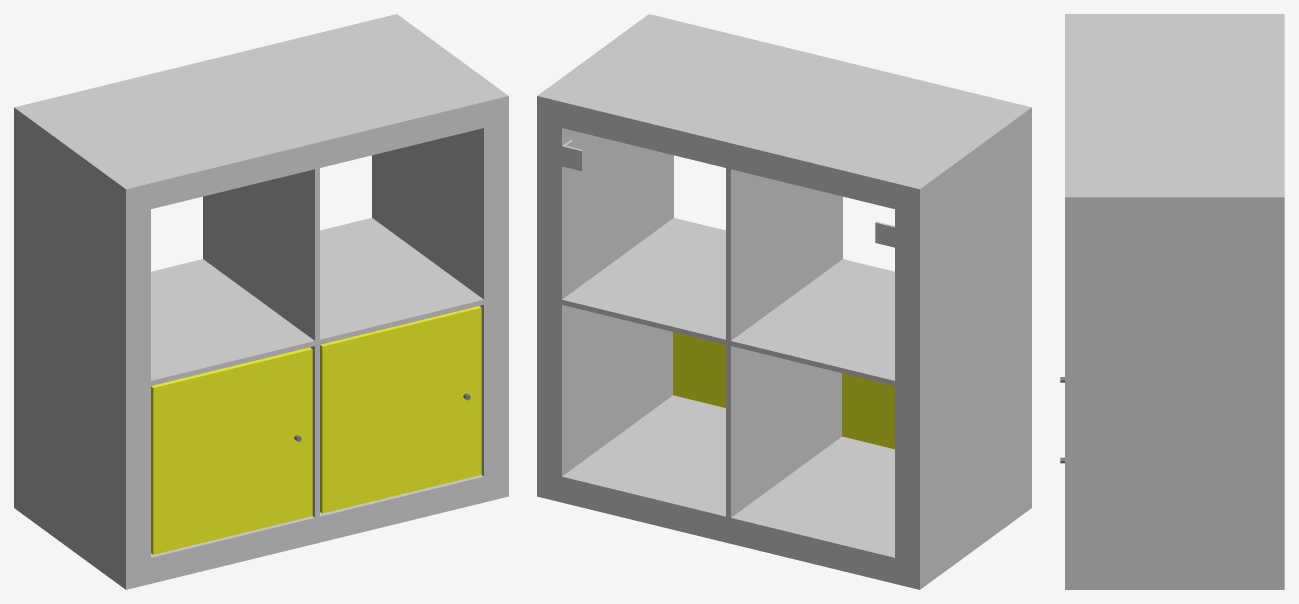
Rendered from KALLAX_Shelf_with_Doors_White_Yellow_Square.obj.
3 views of the same model, side by side, from view 1: azimuth 30°, elevation 25°; view 2: azimuth 150°, elevation 25°; view 3: azimuth 270°, elevation 25° (orthographic).
Parts seen in each view (by area): view 1: Generic_Models; view 2: Generic_Models; view 3: Generic_Models.
Part boxes in pixels (x1=…): Generic_Models: x1=14, y1=14, x2=508, y2=589; Generic_Models: x1=537, y1=14, x2=1031, y2=589; Generic_Models: x1=1060, y1=14, x2=1284, y2=589.
Bounding box in the file's own units: 770 × 770 × 398.
